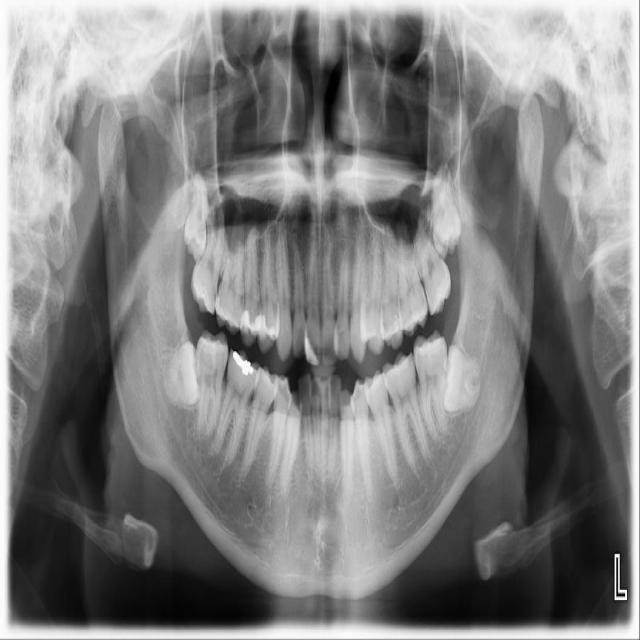Filling: (240, 310, 262, 336), (232, 350, 253, 375), (258, 315, 277, 340)
Periapical lesion: (198, 441, 225, 471), (233, 472, 248, 491)
impacted tooth: (443, 345, 485, 413), (433, 161, 462, 254), (160, 339, 197, 404), (184, 170, 209, 259)
